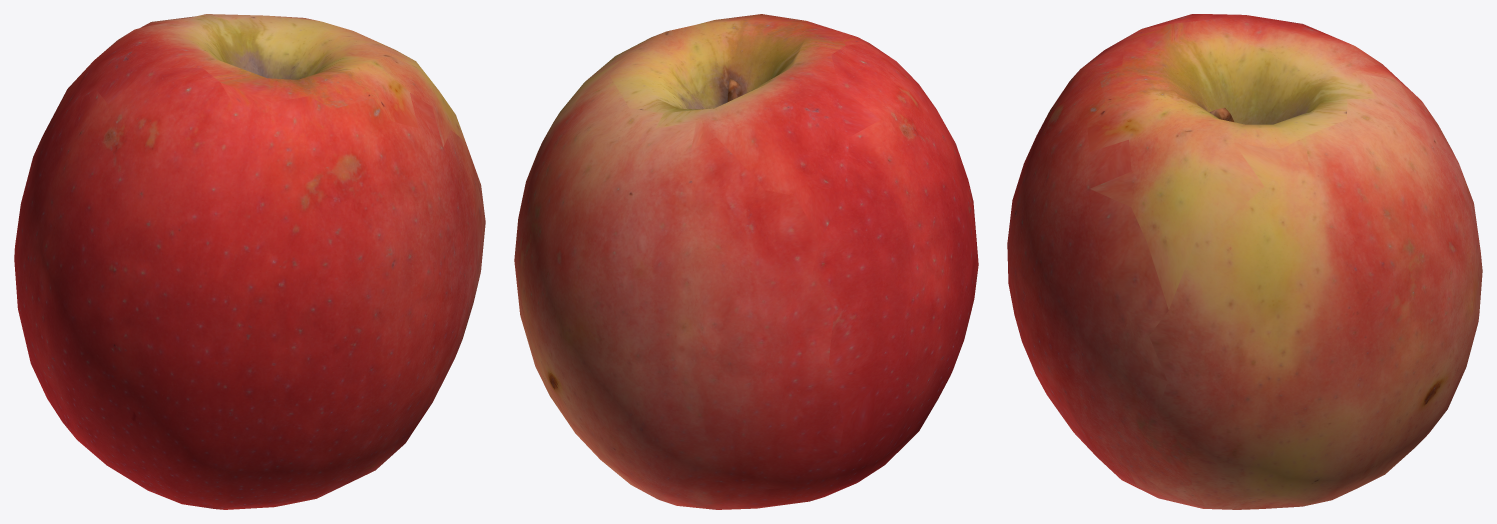
The model's file is apple.fbx.
The picture shows the model from 3 angles, left to right: view 1: azimuth 30°, elevation 25°; view 2: azimuth 150°, elevation 25°; view 3: azimuth 270°, elevation 25°; orthographic projection. The views are drawn at different scales.
Visible parts, largest first — view 1: apple; view 2: apple; view 3: apple.
Part boxes in pixels (<box>): apple: <box>14,14,485,509</box>; apple: <box>514,14,978,509</box>; apple: <box>1007,14,1482,509</box>.
Bounding box in the file's own units: 9.08 × 9.01 × 9.2.
